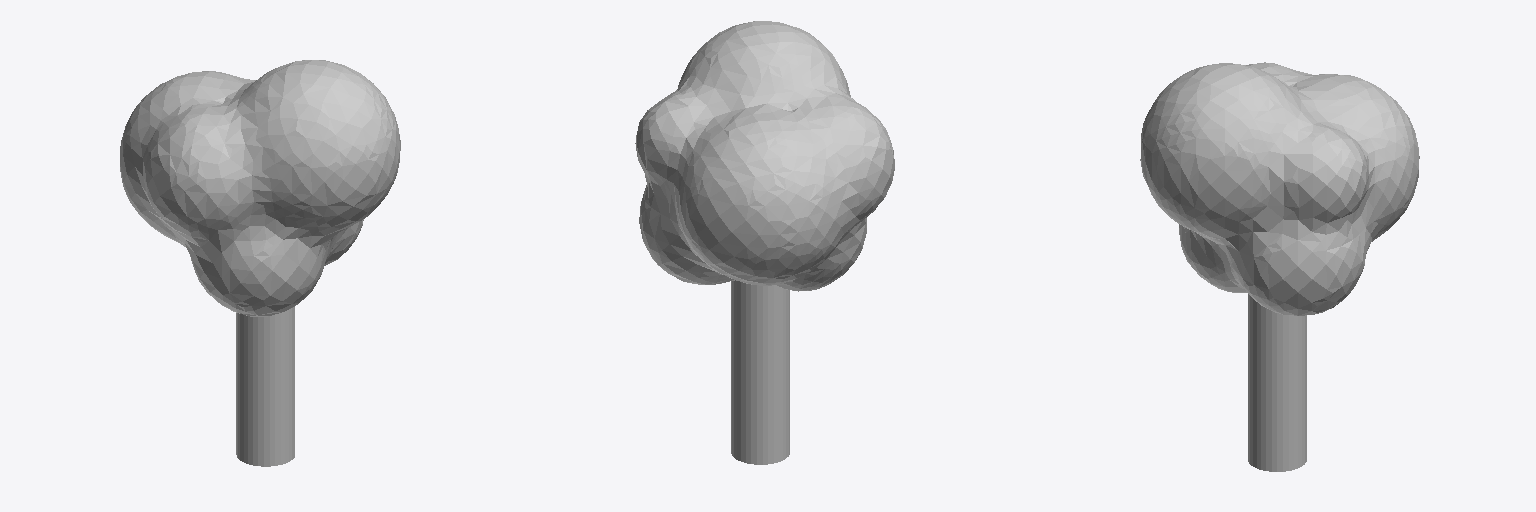
File: tree.obj
3 renders of one model, left to right at view 1: azimuth 30°, elevation 25°; view 2: azimuth 150°, elevation 25°; view 3: azimuth 270°, elevation 25°, orthographic.
Parts seen in each view (by area): view 1: tree; view 2: tree; view 3: tree.
Boxes of the visible parts, <box> form: tree: <box>120,60,400,466</box>; tree: <box>635,21,894,464</box>; tree: <box>1140,62,1419,471</box>.
Bounding box in the file's own units: 8.5 × 14.85 × 9.42.